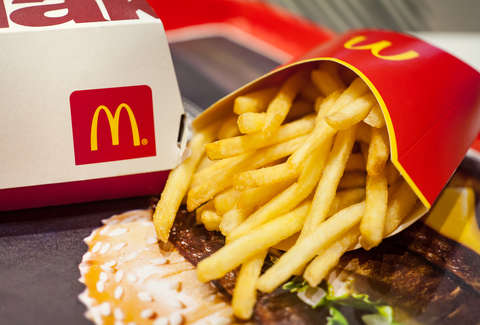mcdonalds: (87, 98, 143, 156)
